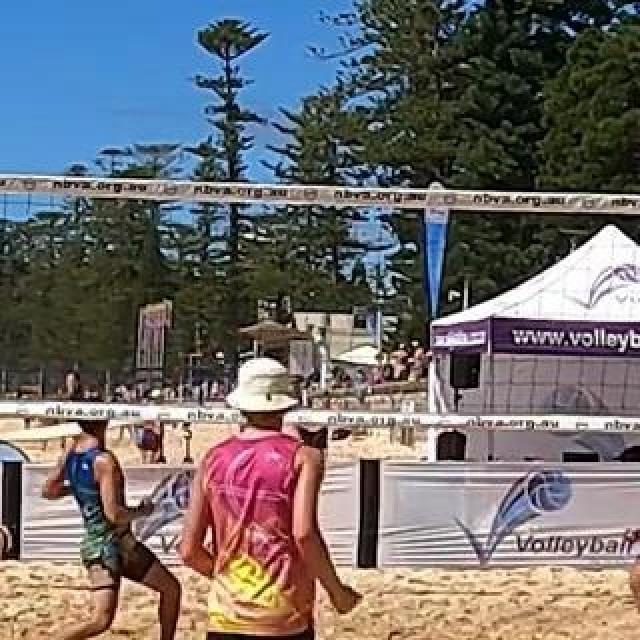volleyball: (0, 522, 14, 562)
